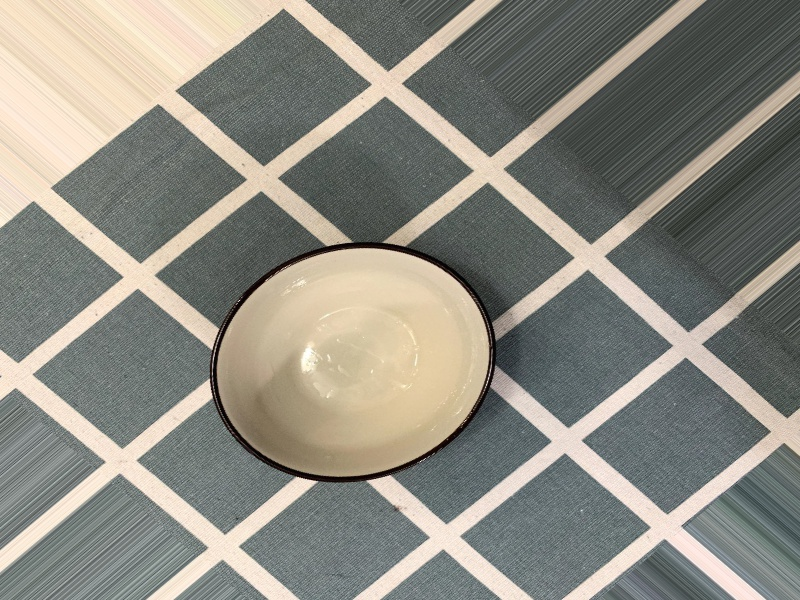bowl_small: (141, 181, 567, 541)
